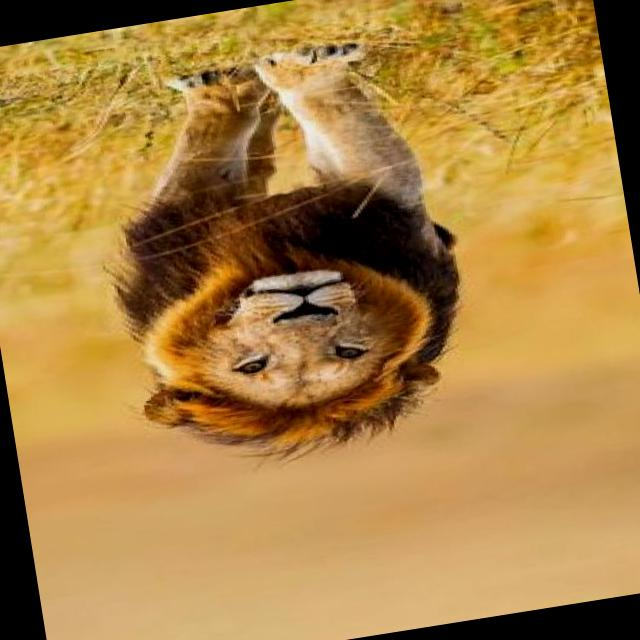lions: (26, 0, 555, 594)
